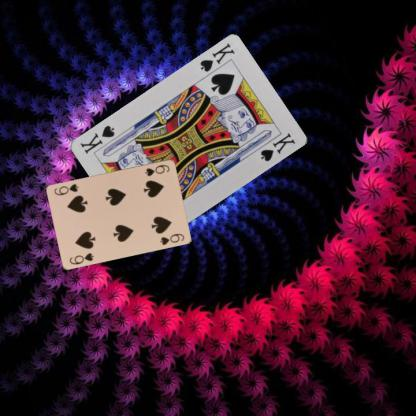6s: (143, 162, 171, 177), (67, 250, 95, 265)
Ks: (198, 40, 236, 74)
